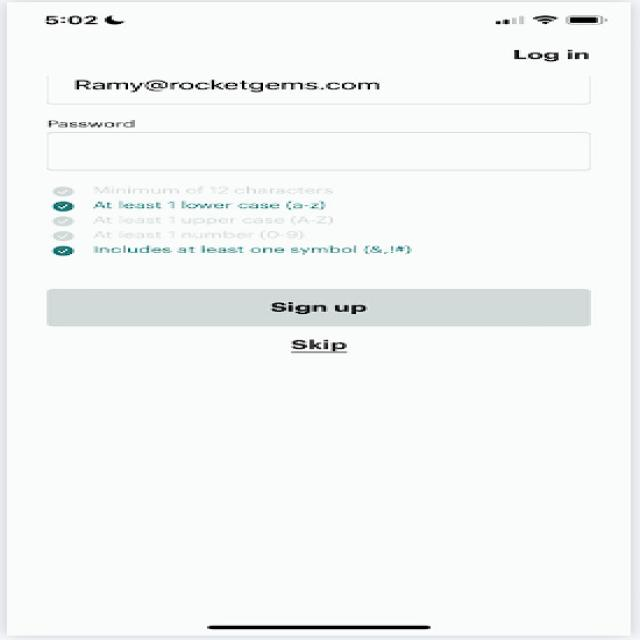button: (15, 274, 612, 336)
input: (24, 115, 605, 181), (27, 59, 605, 113)
text: (24, 184, 505, 262), (498, 42, 603, 62), (286, 338, 361, 356)
